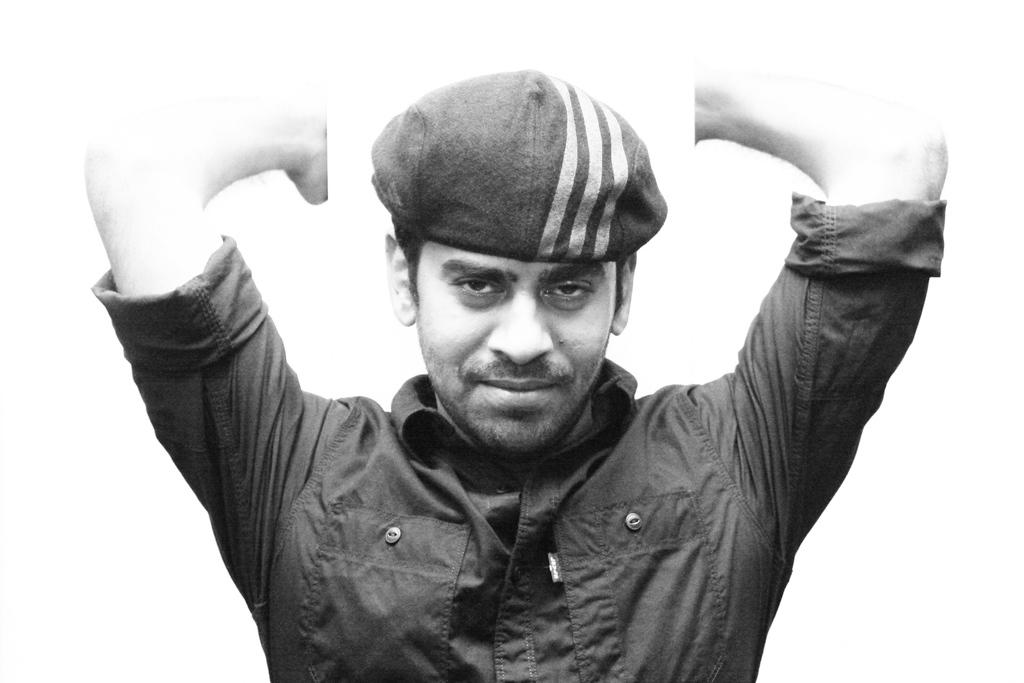Sem Máscara: (411, 233, 618, 458)
